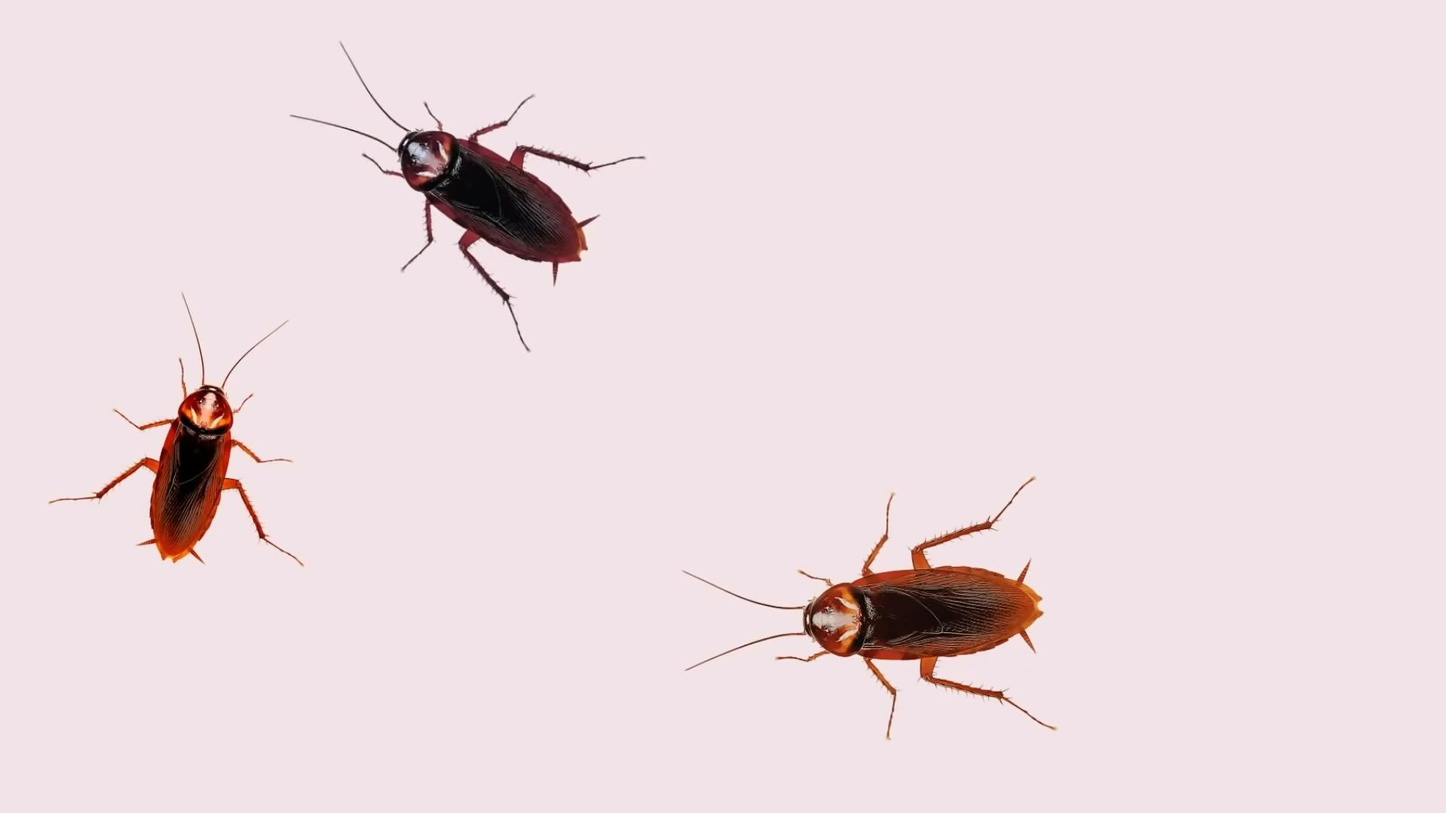cockroach: (320, 19, 591, 324), (718, 512, 1045, 708), (93, 341, 292, 589)
